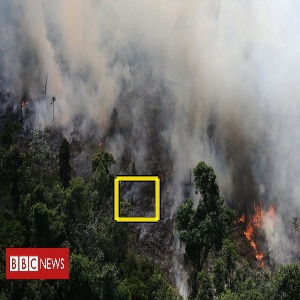square: (112, 175, 160, 222)
